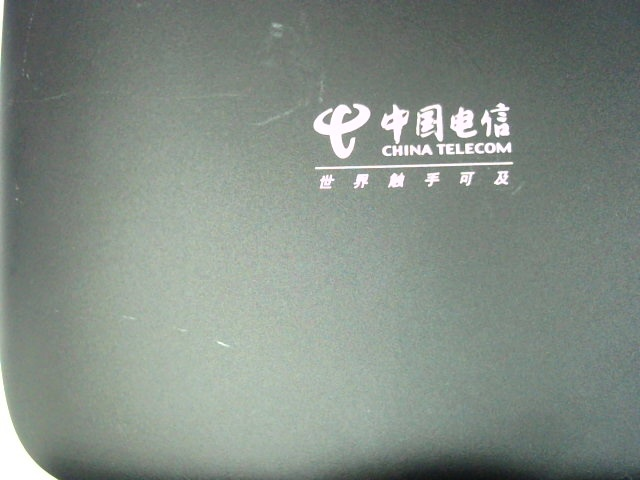AB_ChinaTelecom: (308, 101, 527, 190)
